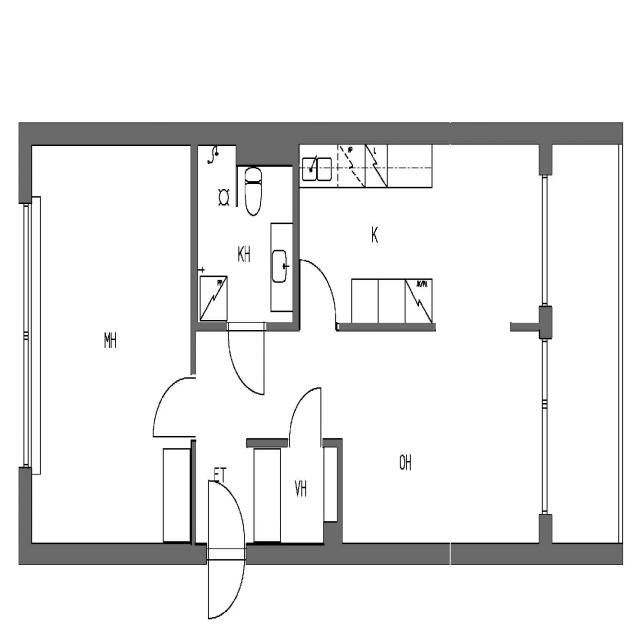door: (208, 484, 244, 565), (208, 544, 244, 624), (154, 377, 196, 437), (228, 322, 264, 390), (300, 264, 336, 332), (289, 387, 321, 447)
